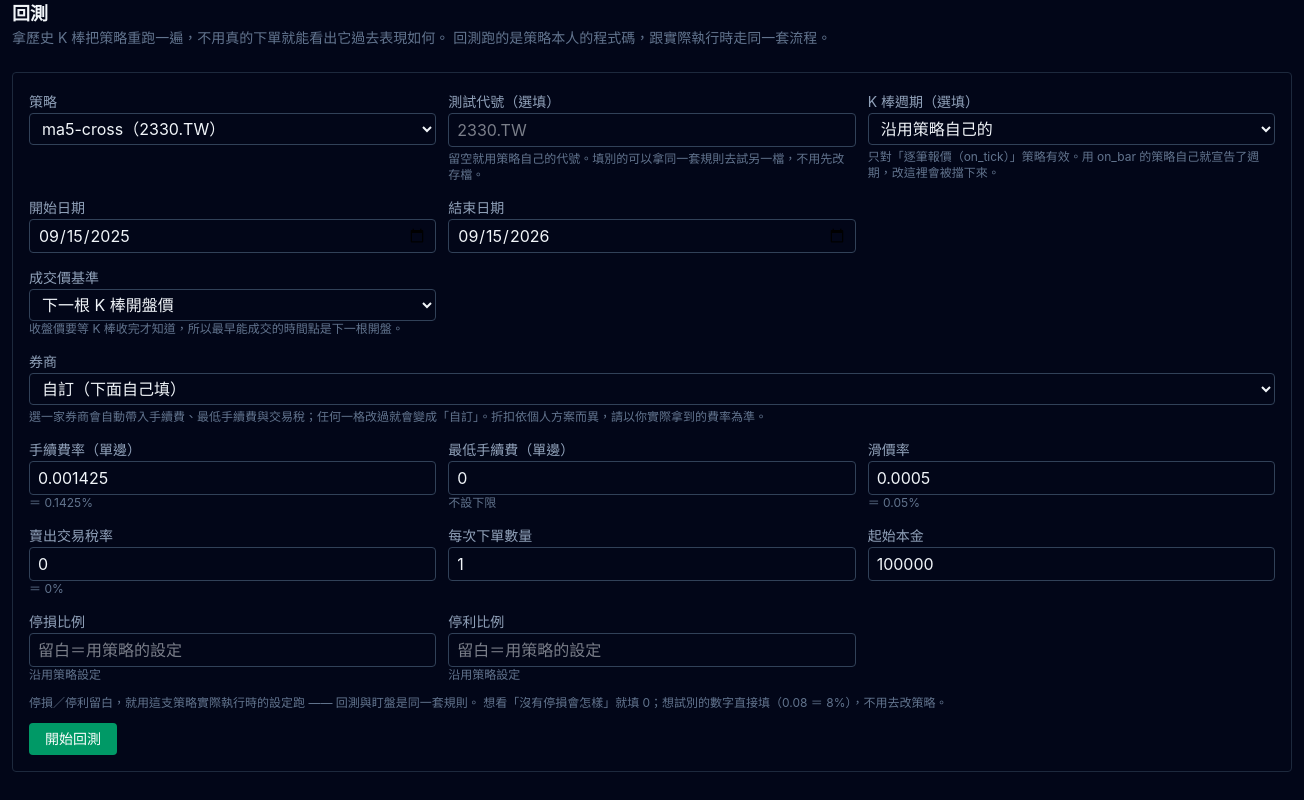
Test: BacktestPage › draws the equity curve
Click the button "開始回測". click: click(73, 739)
box: [29,723,117,755]
(page scrolled)
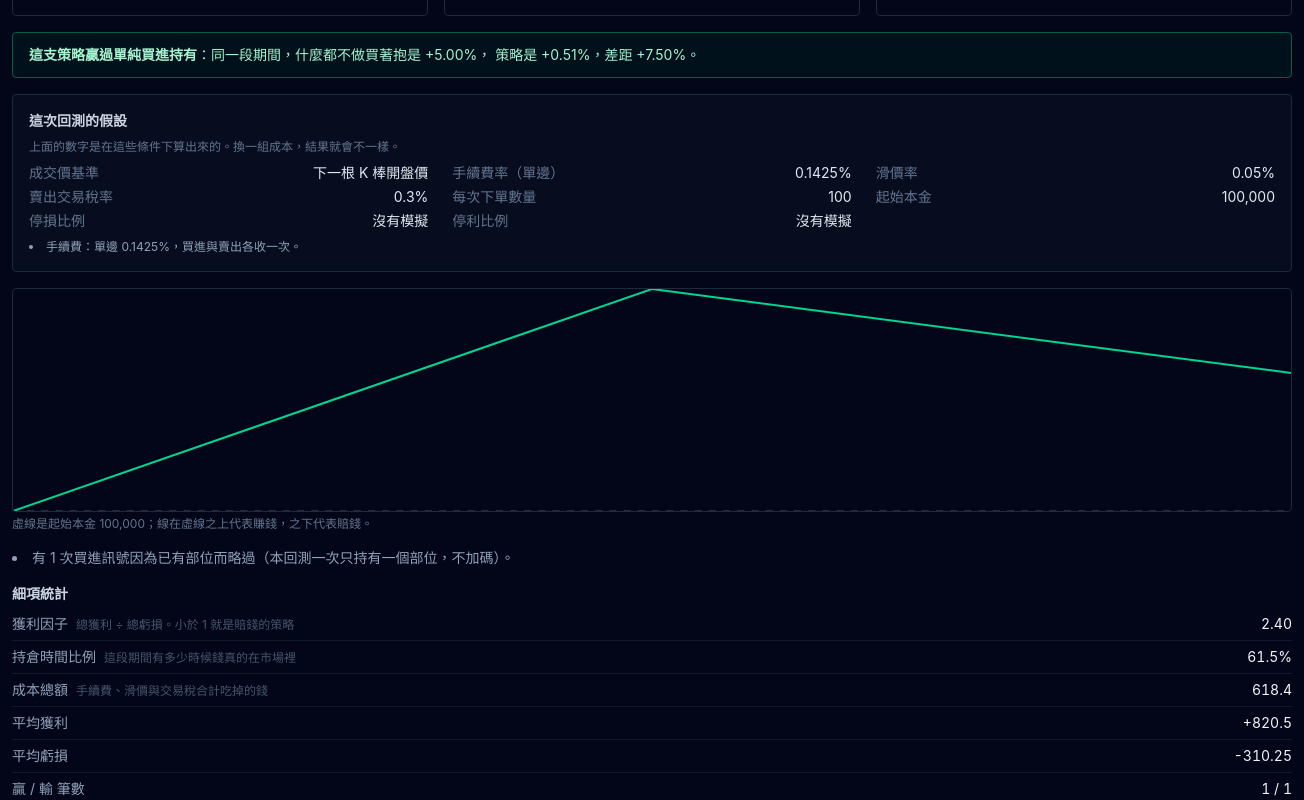
Result: the picture named "權益曲線" is shown at [12,288,1292,512]
